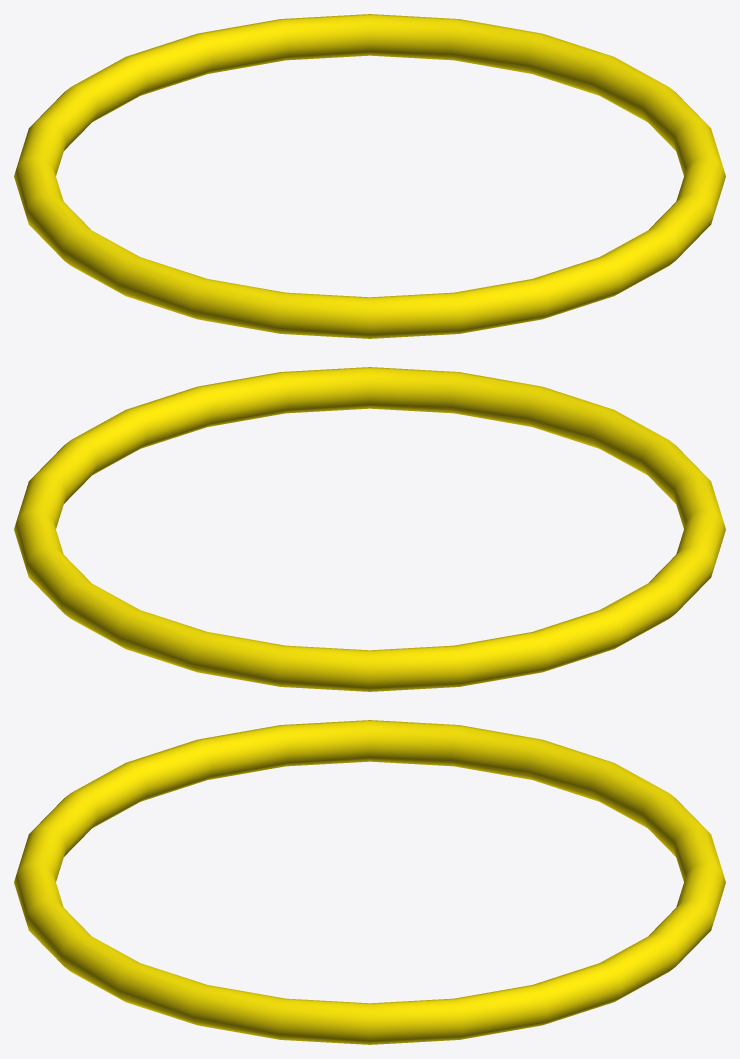
File: Ring4P.FBX
3 renders of one model, top to bottom at view 1: azimuth 30°, elevation 25°; view 2: azimuth 150°, elevation 25°; view 3: azimuth 270°, elevation 25°, orthographic.
Visible parts, largest first — view 1: Torus001; view 2: Torus001; view 3: Torus001.
Part boxes in pixels (box(x1,y1,x2,y2)): Torus001: box(14, 14, 725, 338); Torus001: box(14, 367, 725, 691); Torus001: box(14, 720, 725, 1044).
Size of the model in its own units: 160 by 160 by 9.38.
1 material, 1 textured.
